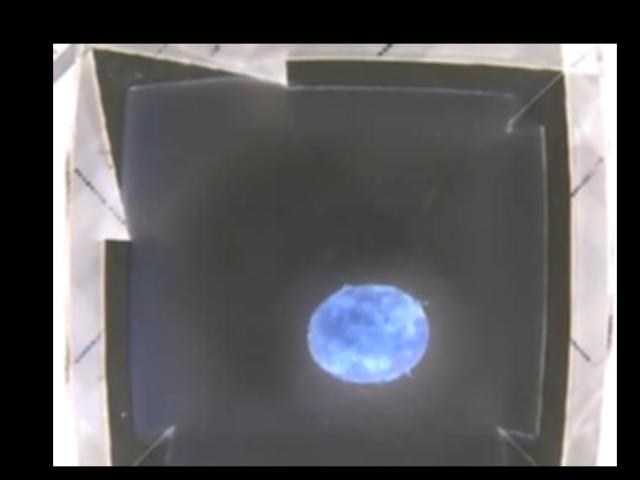Potato: (305, 282, 428, 383)
